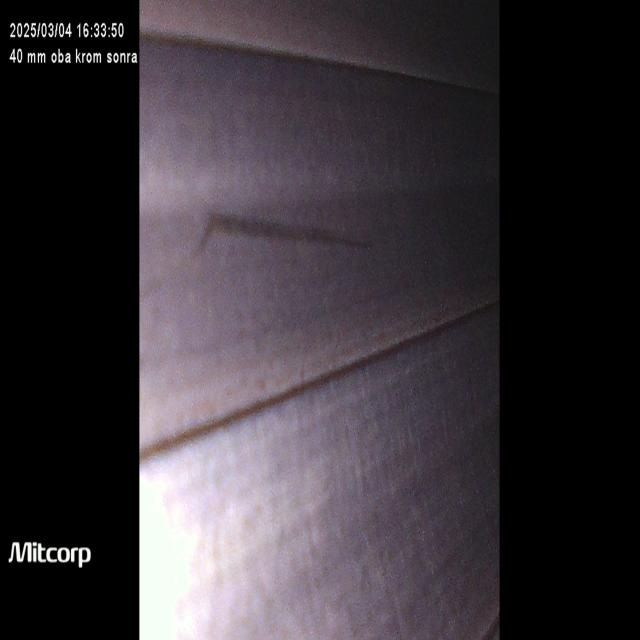hata_4.2: (189, 156, 391, 297)
